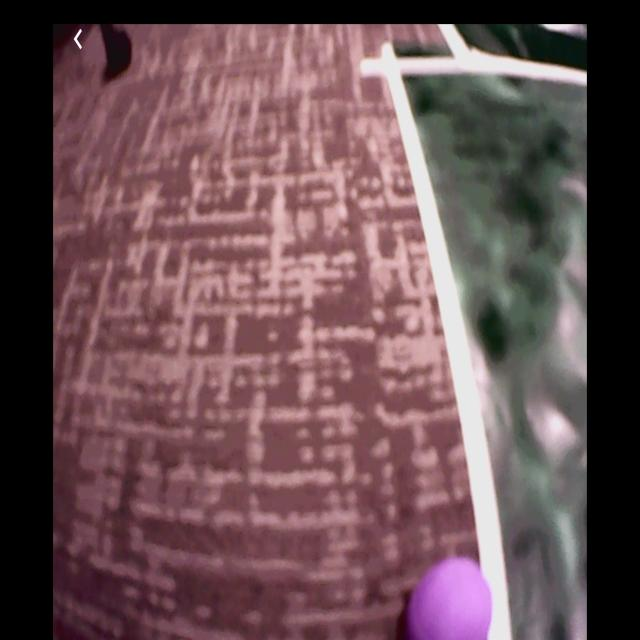ball: (406, 555, 494, 639)
